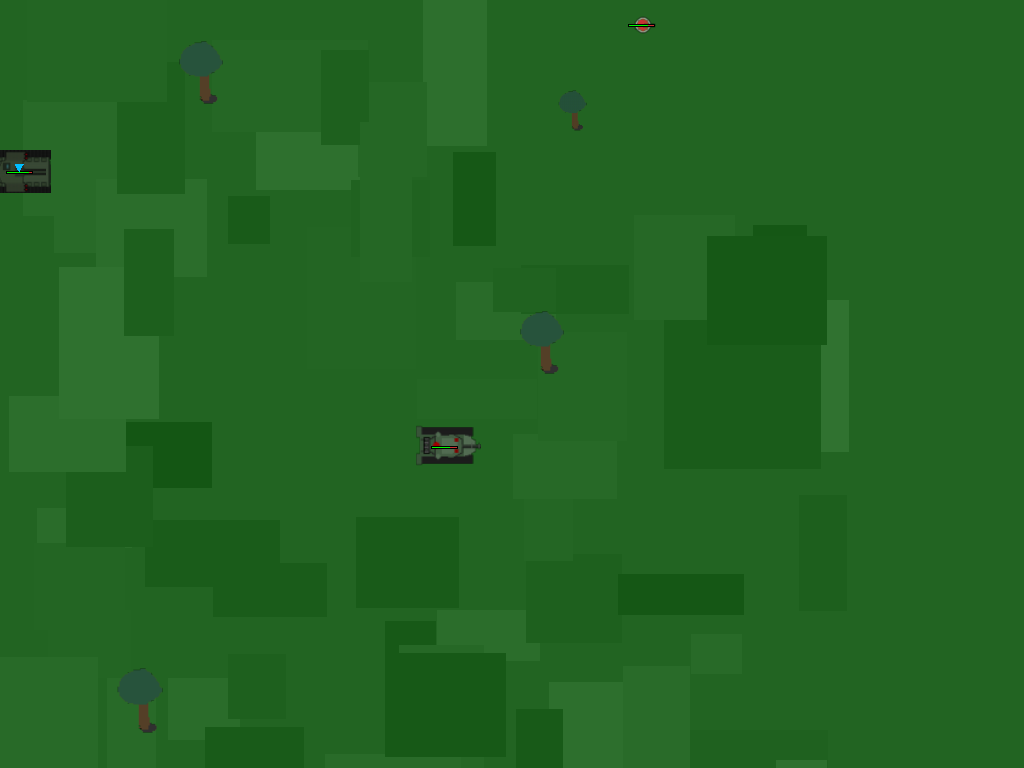M1A2_rus: (413, 413, 475, 475)
Rifleman: (624, 6, 657, 39)
TerminatorIFV: (0, 144, 52, 196)
